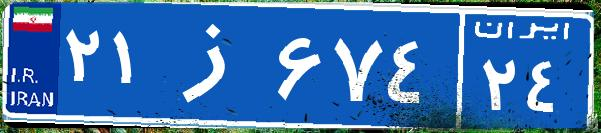1: (110, 28, 158, 105)
2: (57, 26, 110, 107), (475, 38, 525, 113)
4: (385, 28, 445, 110), (525, 38, 570, 115)
6: (273, 28, 330, 110)
7: (330, 28, 385, 110)
ز: (158, 15, 273, 115)
